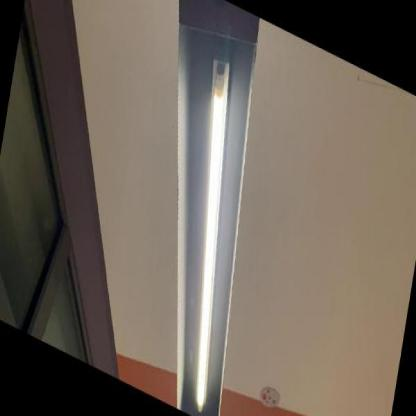light_on: (157, 43, 266, 415)
